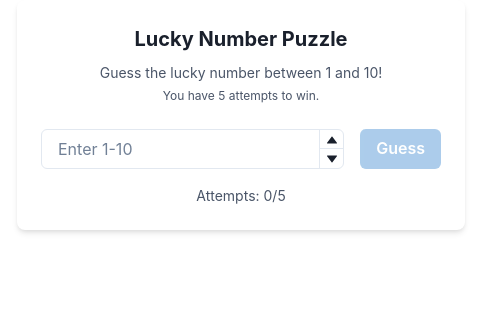
Test case: LuckyNumberPuzzle › should handle incorrect guess and show feedback
The width and height of the screenshot is (483, 323).
Make an incorrect guess
Type "3" into the number field with placeholder "Enter 1-10" at (193, 149), box [41,129,344,169]
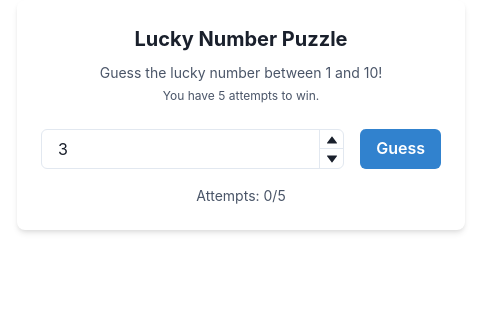
Click the button "Guess" at (401, 149), box [360,129,441,169]
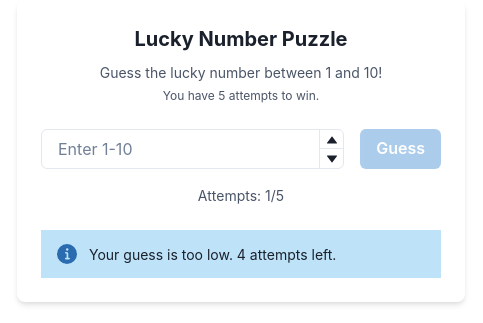
Now the text "Your guess is too low. 4 attempts left." is shown, box [89,244,336,264]
Now the text "Attempts: 1/5" is shown, box [198,185,284,206]
